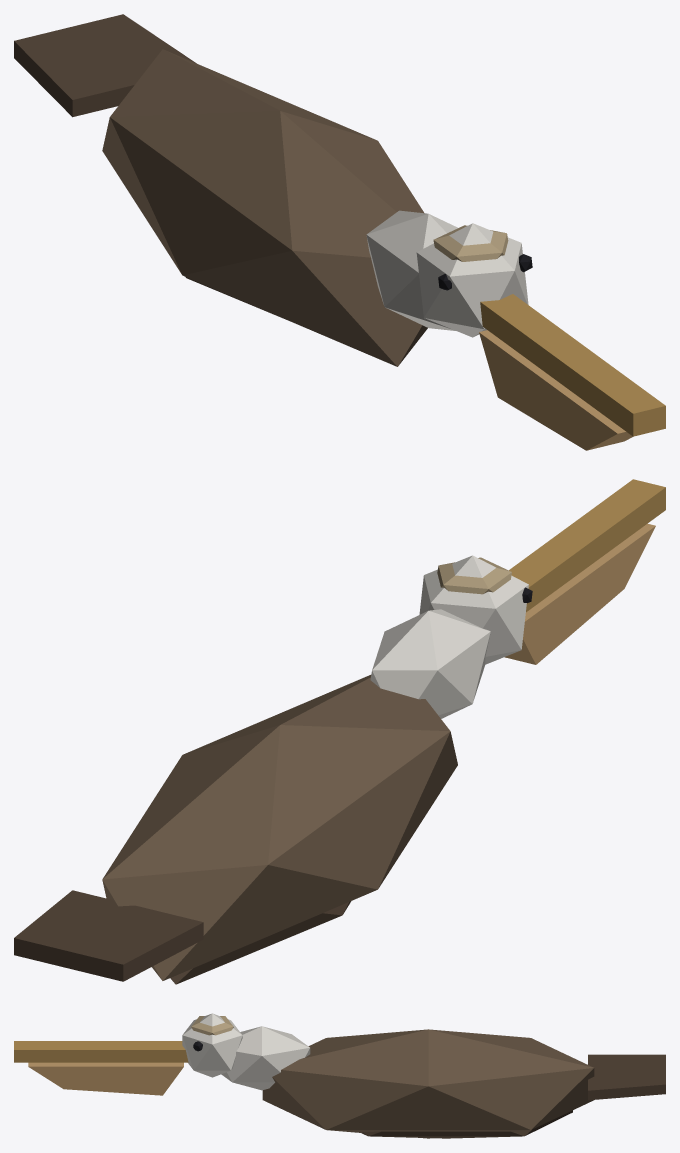
The model's file is Pelican_Body.glb.
3 views of the same model, one above another, from view 1: azimuth 30°, elevation 25°; view 2: azimuth 150°, elevation 25°; view 3: azimuth 270°, elevation 25° (orthographic). The views are drawn at different scales.
Visible parts, largest first — view 1: Pelican_Body; view 2: Pelican_Body; view 3: Pelican_Body.
Part boxes in pixels (x1,y1,x2,y2): Pelican_Body: (14, 14, 665, 450); Pelican_Body: (14, 479, 665, 984); Pelican_Body: (14, 1013, 665, 1138).
Size of the model in its own units: 0.3578 by 0.39 by 1.84.
